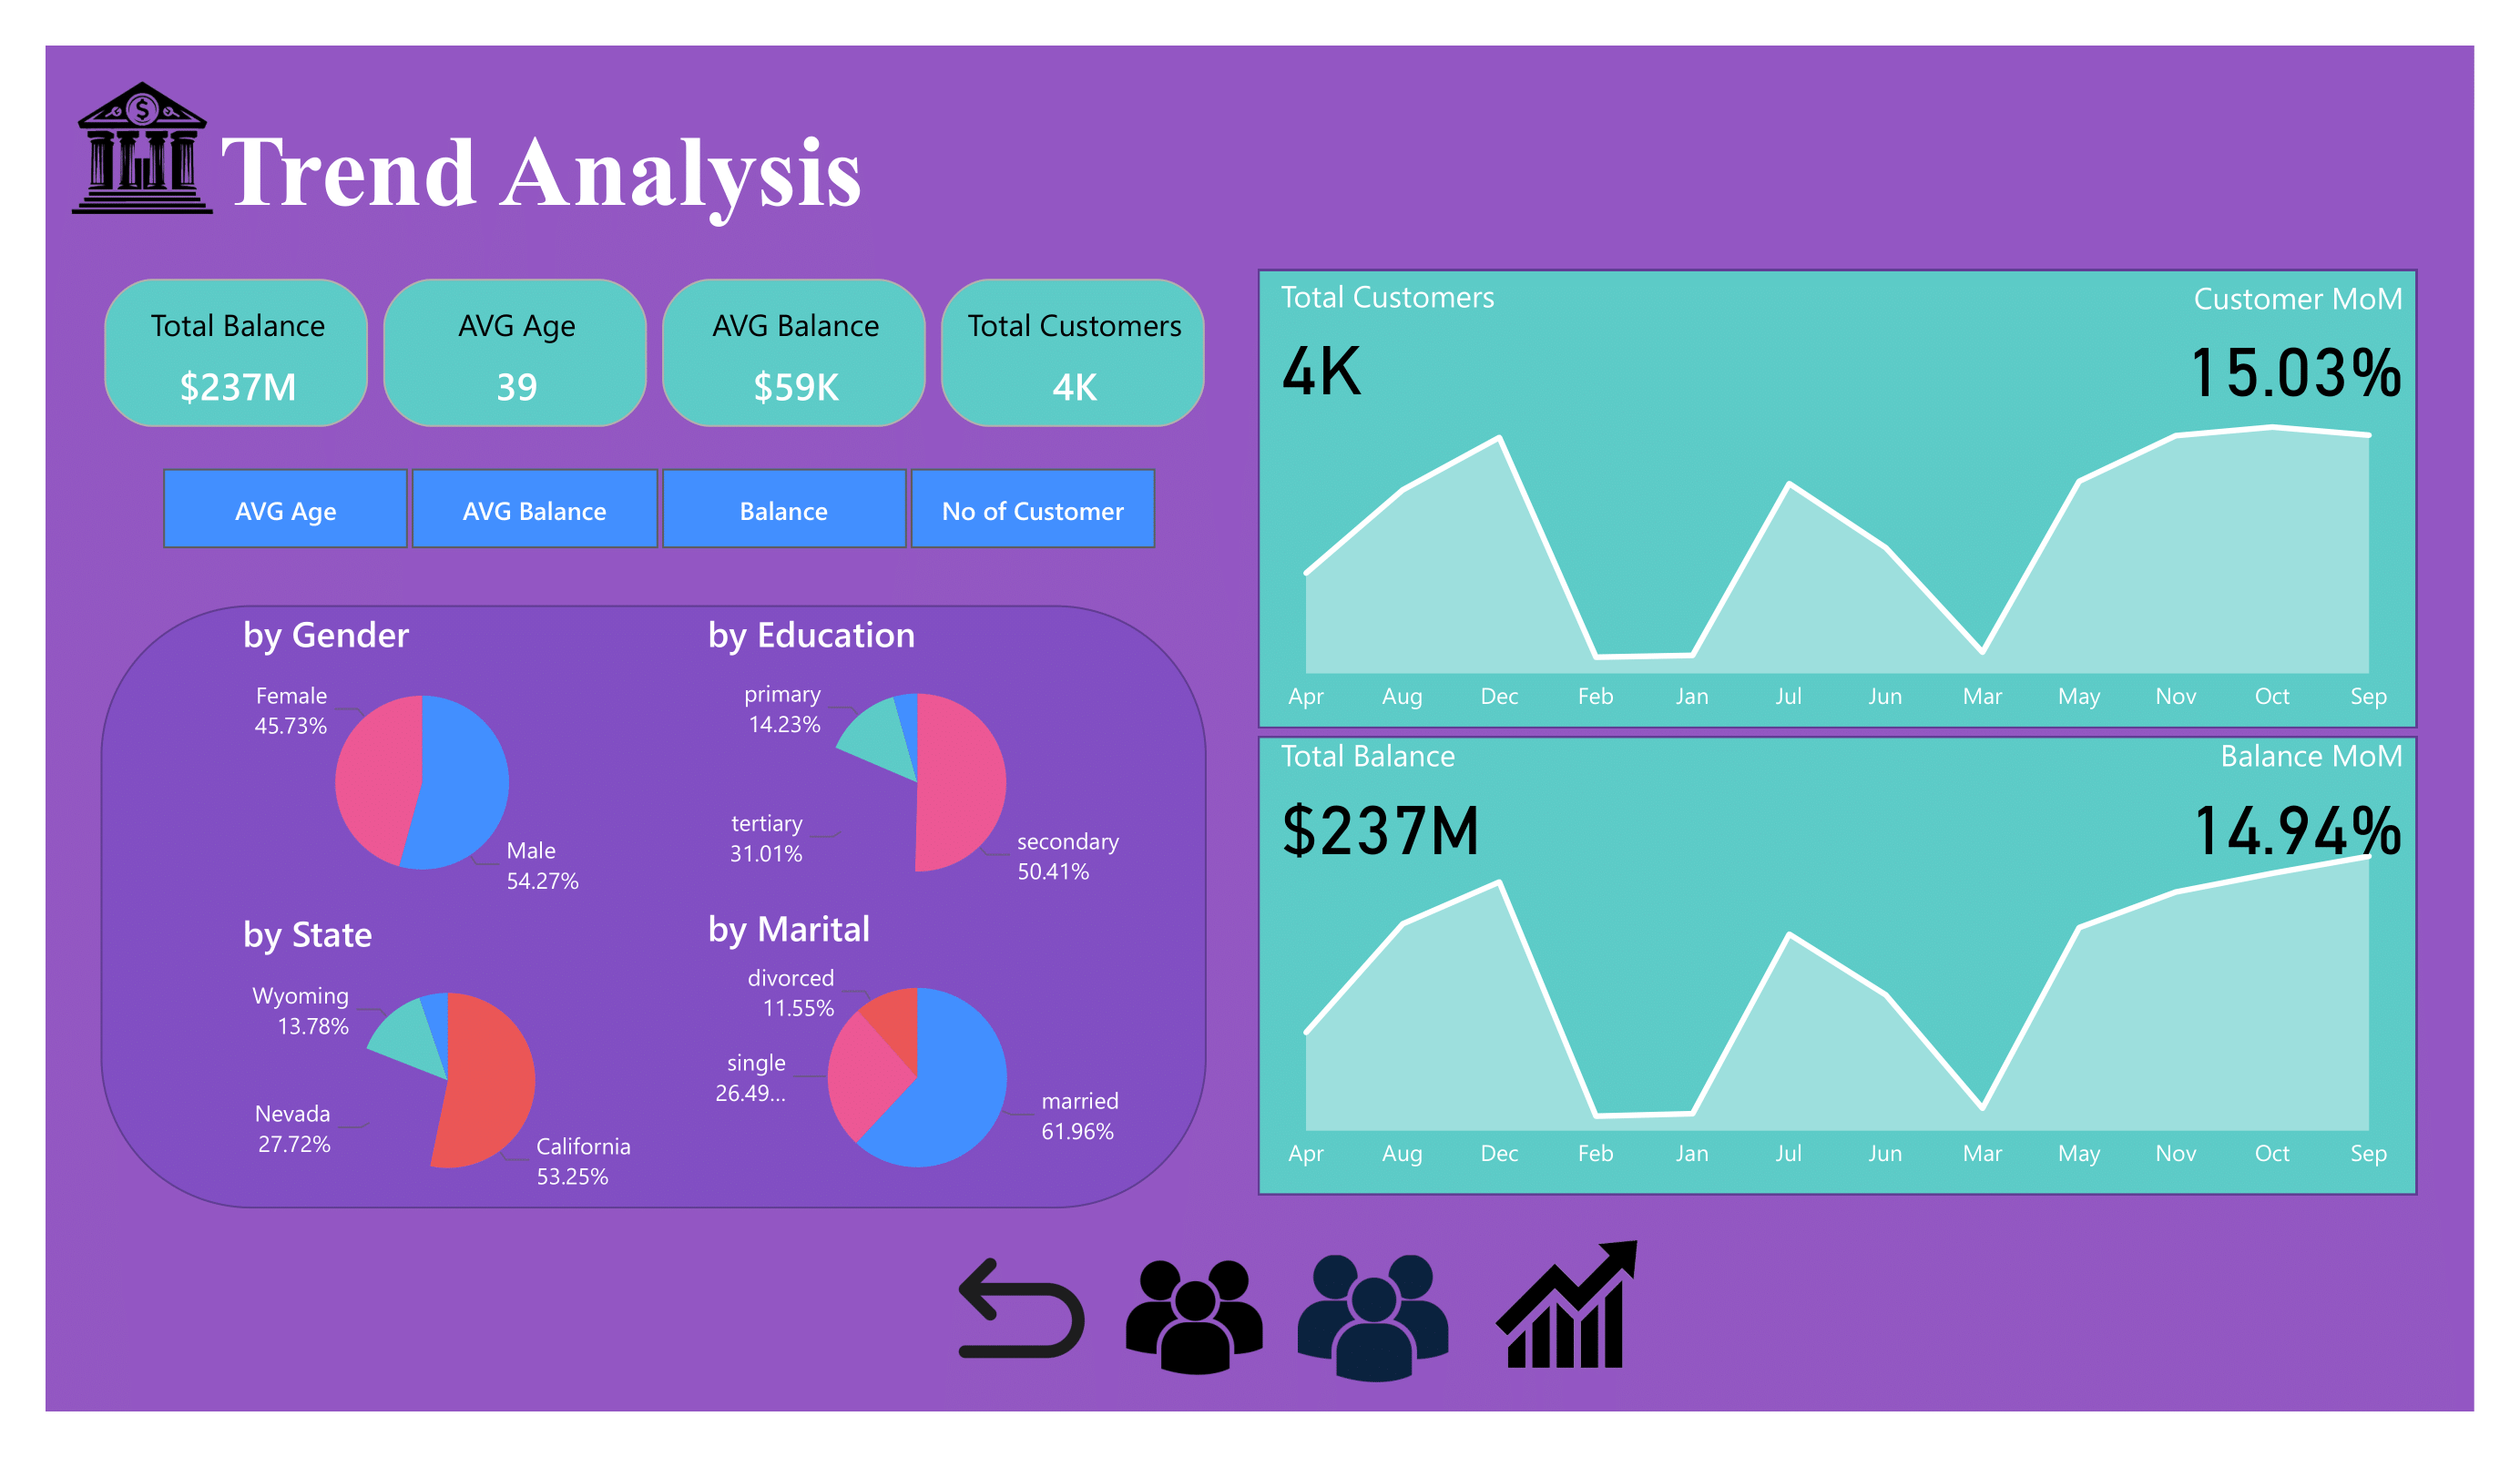

The page's visual inventory and layout, read from the dashboard file:
{"tool":"powerbi","page":{"name":"Trend","canvas":[1280,720],"ordinal":5},"visuals":[{"type":"shape","box":[639.4,364.3,610.6,241.9],"z":500},{"type":"shape","box":[639.4,118.1,610.6,241.9],"z":1000},{"type":"shape","box":[28.8,295.2,583.2,318.2],"z":2000},{"type":"cardVisual","fields":{"Data":["Measure.Total Balance","Measure.AVG Age","Measure.AVG Balance","Measure.Total Customers"]},"box":[25.9,118.1,740.2,87.8],"z":3000},{"type":"pieChart","title":"by Gender","fields":{"Category":["Bank data.Gender"],"Y":["Measure.Measure Logic"]},"box":[99.4,296.6,198.7,158.4],"z":4000},{"type":"pieChart","title":"by State","fields":{"Y":["Measure.Measure Logic"],"Category":["Bank data.State"]},"box":[99.4,455,226.1,155.5],"z":5000},{"type":"pieChart","title":"by Education","fields":{"Y":["Measure.Measure Logic"],"Category":["Bank data.education"]},"box":[344.2,296.6,230.4,158.4],"z":6000},{"type":"pieChart","title":"by Marital","fields":{"Y":["Measure.Measure Logic"],"Category":["Bank data.marital"]},"box":[344.2,452.2,230.4,158.4],"z":7000},{"type":"slicer","fields":{"Values":["Selection Table.Measure"]},"box":[36,216,573.1,56.2],"z":8000},{"type":"areaChart","fields":{"Category":["Date Table.Month Name"],"Y":["Measure.Total Customers"]},"box":[639.4,174.2,610.6,187.2],"z":9000},{"type":"cardVisual","fields":{"Data":["Measure.Total Customers"]},"box":[633.6,96.5,152.6,119.5],"z":10000},{"type":"cardVisual","fields":{"Data":["Measure.Customer MoM"]},"box":[1103,95,157,123.8],"z":11000},{"type":"areaChart","fields":{"Category":["Date Table.Month Name"],"Y":["Measure.Total Balance"]},"box":[639.4,409,610.6,193],"z":12000},{"type":"cardVisual","fields":{"Data":["Measure.Total Balance"]},"box":[633.6,345.6,172.8,97.9],"z":13000},{"type":"cardVisual","fields":{"Data":["Measure.Balance MoM"]},"box":[1103,345.6,157,95],"z":14000},{"type":"image","box":[465.1,620.6,99.4,89.3],"z":15000},{"type":"image","box":[542.9,620.6,123.8,99.4],"z":16000},{"type":"image","box":[633.6,626.4,132.5,89.3],"z":17000},{"type":"image","box":[740.2,617.8,125.3,93.6],"z":18000},{"type":"textbox","title":"Trend Analysis","box":[86.4,34.6,496.8,118.1],"z":19000},{"type":"image","box":[0,0,102.2,108],"z":20000}]}

Visuals, with their boxes on the page's 1280x720 design canvas (x1, y1, x2, y2). These are canvas units, not pixel positions in the 2520x1457 screenshot, which may show the page scaled, cropped or inside an application window:
shape: [639,364,1250,606]
shape: [639,118,1250,360]
shape: [29,295,612,613]
cardVisual - Measure.Total Balance x Measure.AVG Age: [26,118,766,206]
"by Gender" pieChart: [99,297,298,455]
"by State" pieChart: [99,455,326,610]
"by Education" pieChart: [344,297,575,455]
"by Marital" pieChart: [344,452,575,611]
slicer - Selection Table.Measure: [36,216,609,272]
areaChart - Date Table.Month Name x Measure.Total Customers: [639,174,1250,361]
cardVisual - Measure.Total Customers: [634,96,786,216]
cardVisual - Measure.Customer MoM: [1103,95,1260,219]
areaChart - Date Table.Month Name x Measure.Total Balance: [639,409,1250,602]
cardVisual - Measure.Total Balance: [634,346,806,444]
cardVisual - Measure.Balance MoM: [1103,346,1260,441]
image: [465,621,564,710]
image: [543,621,667,720]
image: [634,626,766,716]
image: [740,618,866,711]
"Trend Analysis" textbox: [86,35,583,153]
image: [0,0,102,108]
